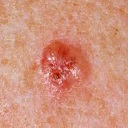Melanoma: (41, 43, 85, 88)
